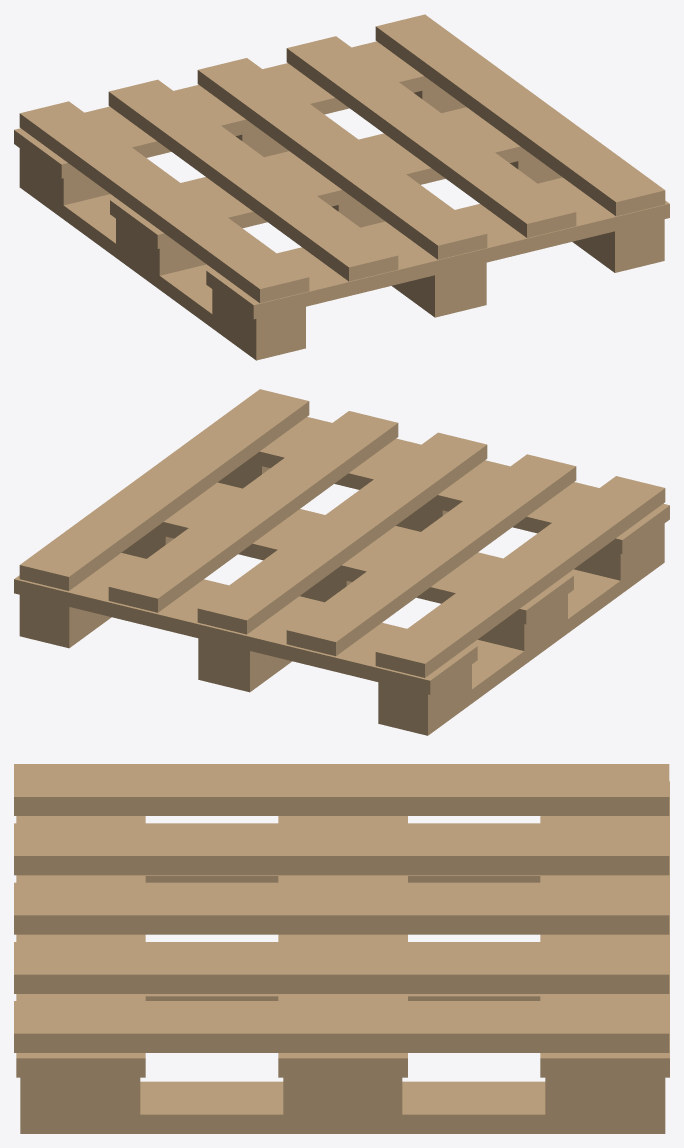
File: pallet.dae
The picture shows the model from 3 angles, top to bottom: view 1: azimuth 30°, elevation 25°; view 2: azimuth 150°, elevation 25°; view 3: azimuth 270°, elevation 25°; orthographic projection. The views are drawn at different scales.
Parts seen in each view (by area): view 1: polymsh_Pts_Material_Surf; view 2: polymsh_Pts_Material_Surf; view 3: polymsh_Pts_Material_Surf.
Part boxes in pixels (box(x1,y1,x2,y2)): polymsh_Pts_Material_Surf: box(14, 14, 669, 360); polymsh_Pts_Material_Surf: box(14, 389, 669, 735); polymsh_Pts_Material_Surf: box(14, 764, 669, 1133).
Bounding box in the file's own units: 12 × 2.01 × 12.01.
